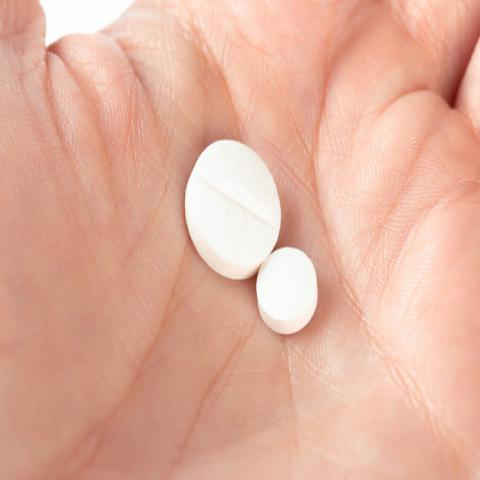Pill: (169, 88, 284, 290), (260, 244, 342, 356)
